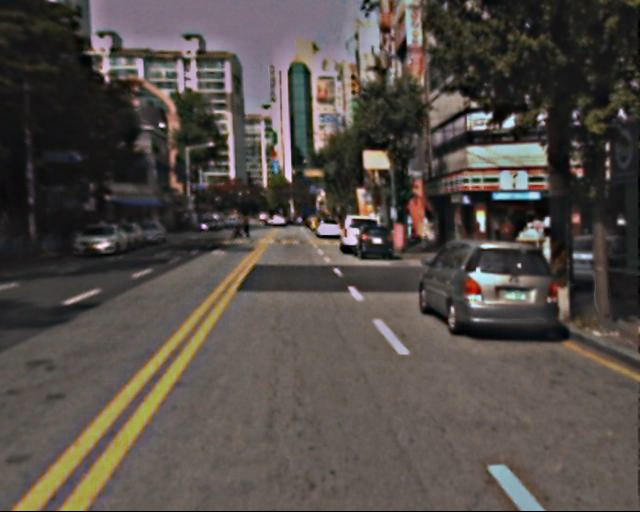person: (497, 214, 521, 265), (240, 213, 252, 243)
